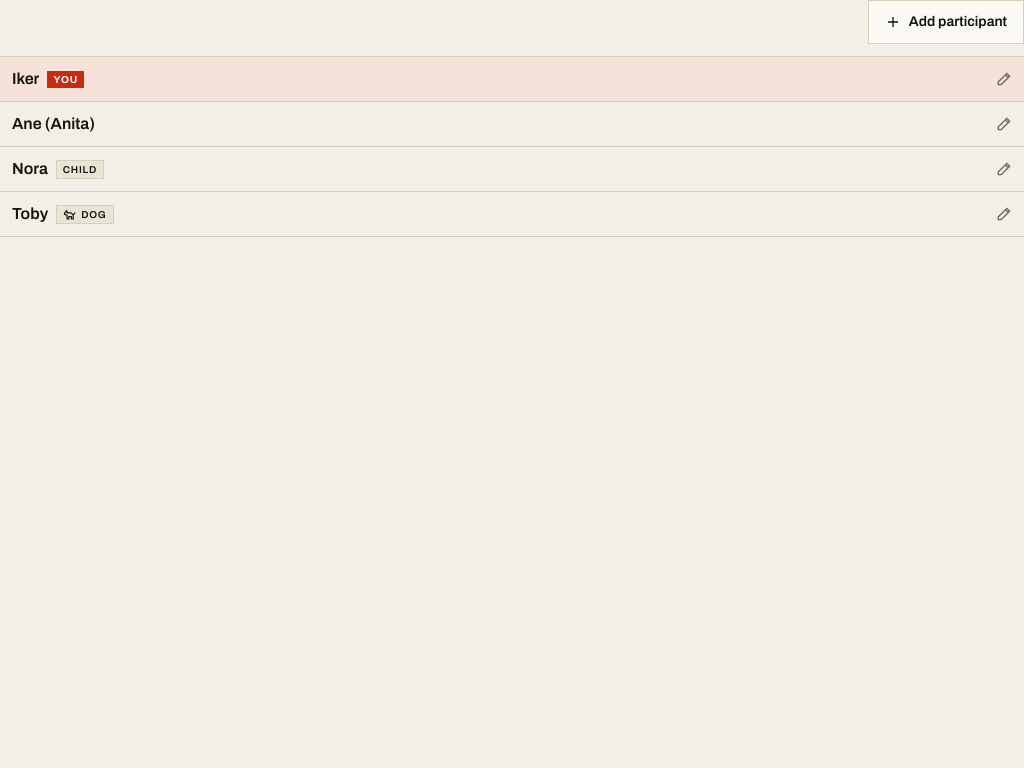
ParticipantsTab › lets anyone but the creator be removed, after confirming
Later steps or results of the test are not shown.
Step 1. Click the button "Iker You" → {"x": 66, "y": 79}, box [0,57,1023,101]
(page scrolled)
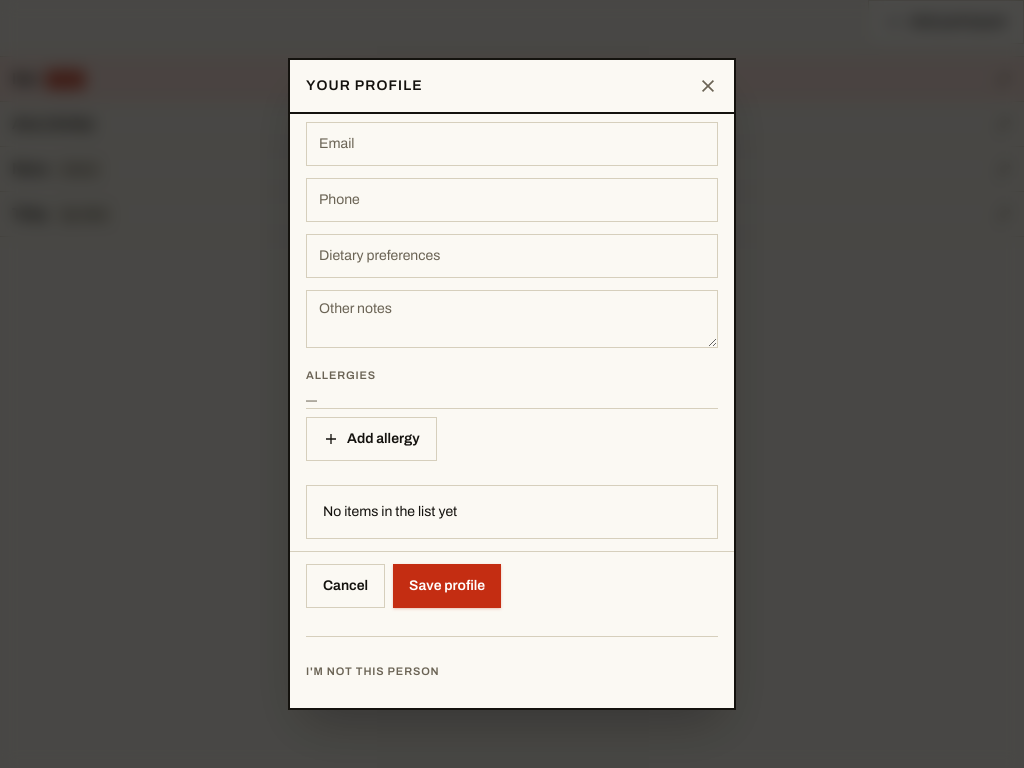
Check: the button "remove from event" is not shown
Step 2. Click the button "Cancel" → {"x": 346, "y": 586}, box [306,564,385,608]
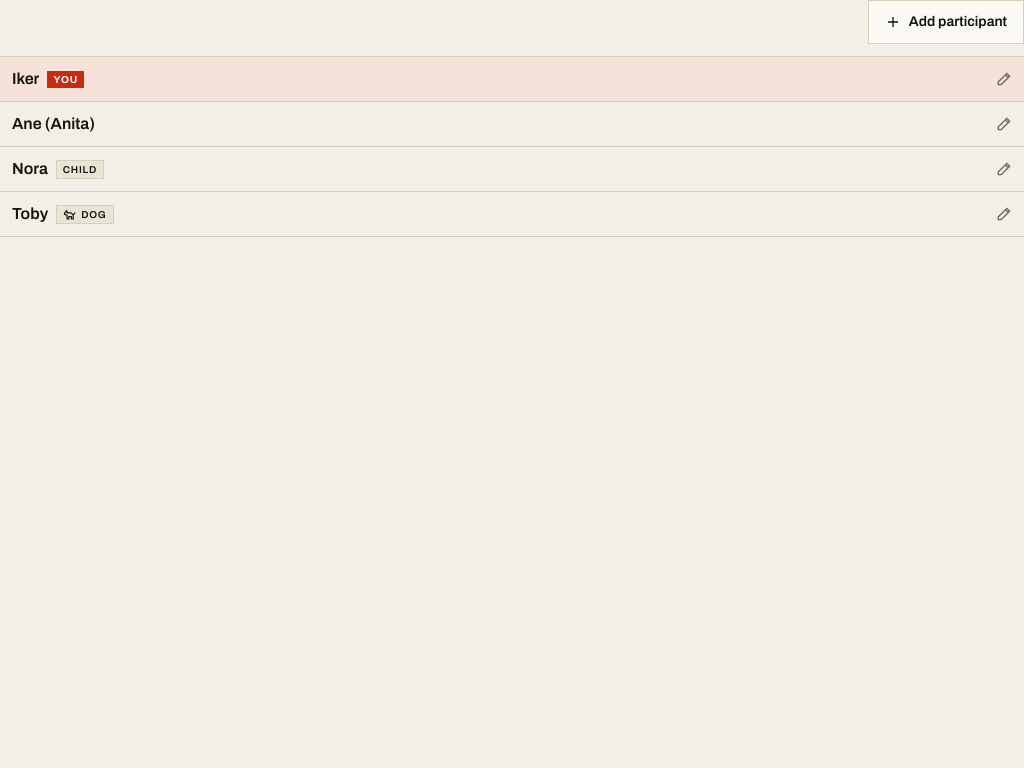
Check: the dialog is gone
Step 3. Click the button "Ane (Anita)" → {"x": 53, "y": 124}, box [0,102,1023,146]
(page scrolled)
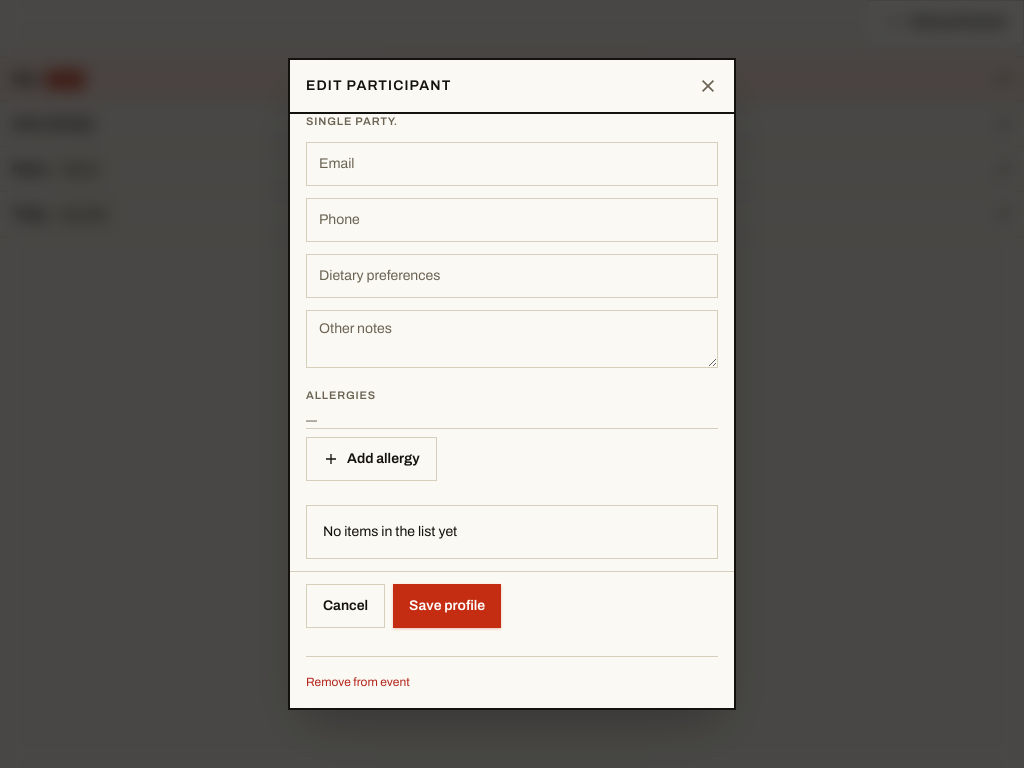
Step 4. Click the button "Remove from event" → {"x": 358, "y": 682}, box [306,674,410,690]
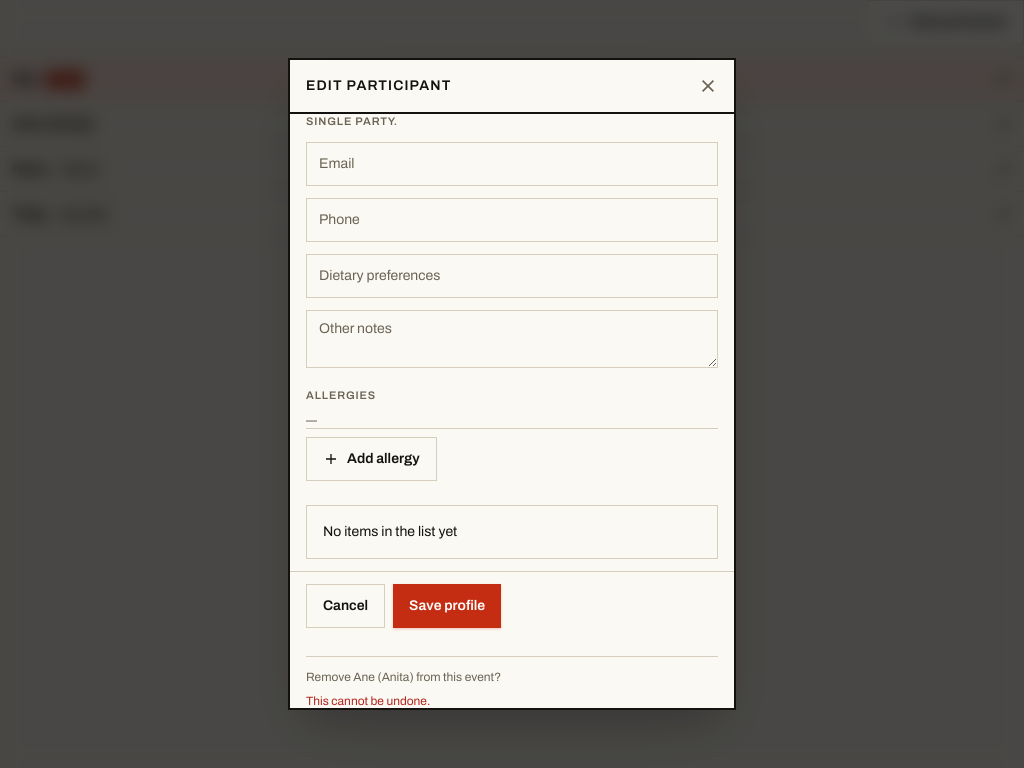
Check: the text "Remove Ane (Anita) from this event?" is shown, box [306,670,501,684]
